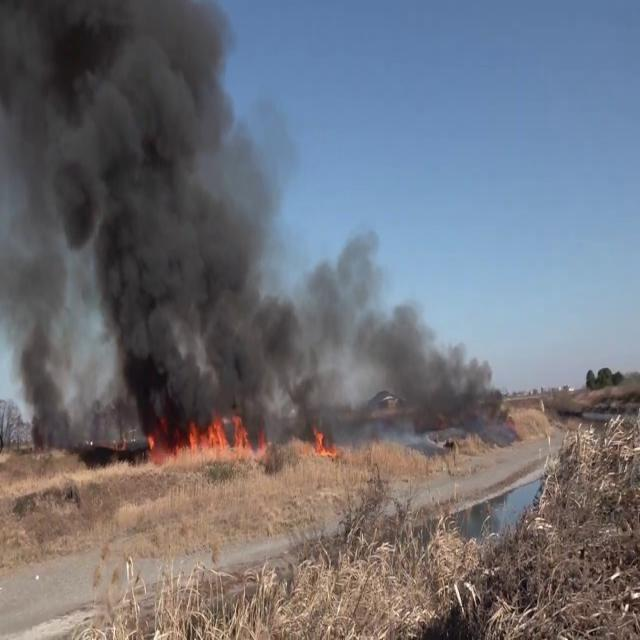Fire: (185, 404, 269, 462), (310, 416, 338, 459)
Smoke: (1, 0, 295, 433), (274, 228, 516, 434)
